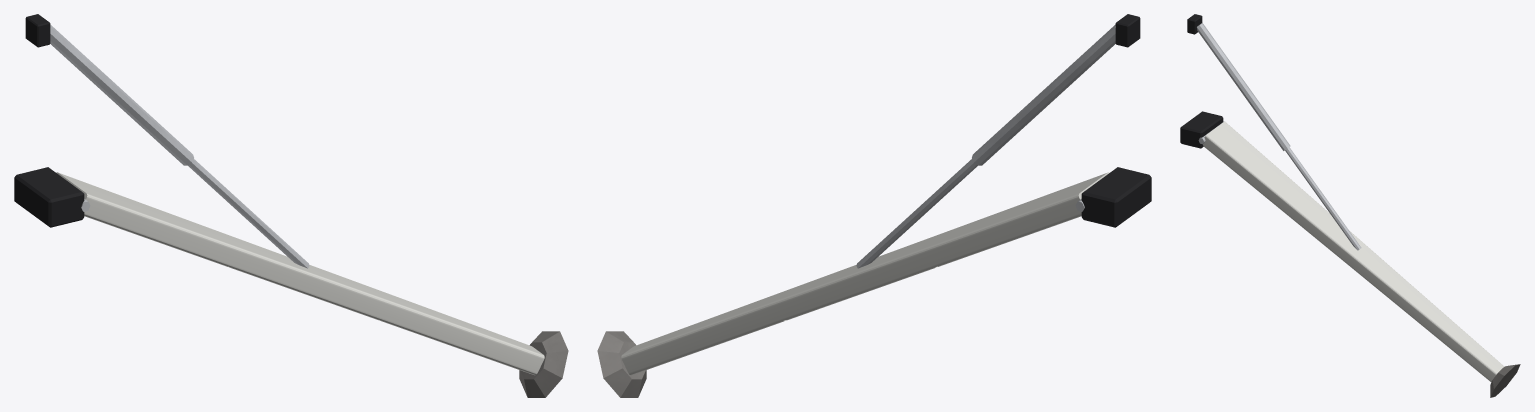
The model's file is ax_gear_05_booster_leg_l_deployed.glb.
The picture shows the model from 3 angles, left to right: view 1: azimuth 30°, elevation 25°; view 2: azimuth 150°, elevation 25°; view 3: azimuth 330°, elevation 25°; orthographic projection. The views are drawn at different scales.
Parts seen in each view (by area): view 1: leg_beam, leg_clevis, leg_pusher_outer, leg_footpad, leg_pusher_inner; view 2: leg_beam, leg_clevis, leg_pusher_outer, leg_footpad, leg_pusher_inner; view 3: leg_beam, leg_pusher_outer, leg_clevis, leg_pusher_inner, leg_footpad.
Part boxes in pixels (left/top/right/bottom): leg_beam: left=56, top=172, right=544, bottom=375; leg_clevis: left=14, top=14, right=84, bottom=227; leg_pusher_outer: left=50, top=24, right=193, bottom=165; leg_footpad: left=519, top=331, right=568, bottom=397; leg_pusher_inner: left=188, top=159, right=309, bottom=268; leg_beam: left=621, top=172, right=1109, bottom=375; leg_clevis: left=1081, top=14, right=1151, bottom=227; leg_pusher_outer: left=972, top=24, right=1115, bottom=165; leg_footpad: left=597, top=331, right=646, bottom=397; leg_pusher_inner: left=856, top=159, right=977, bottom=268; leg_beam: left=1203, top=121, right=1504, bottom=382; leg_pusher_outer: left=1197, top=23, right=1290, bottom=150; leg_clevis: left=1180, top=14, right=1223, bottom=148; leg_pusher_inner: left=1285, top=147, right=1361, bottom=250; leg_footpad: left=1490, top=364, right=1520, bottom=397.
Bounding box in the file's own units: 5.88 × 5.29 × 0.72.
4 materials, 2 textured.
